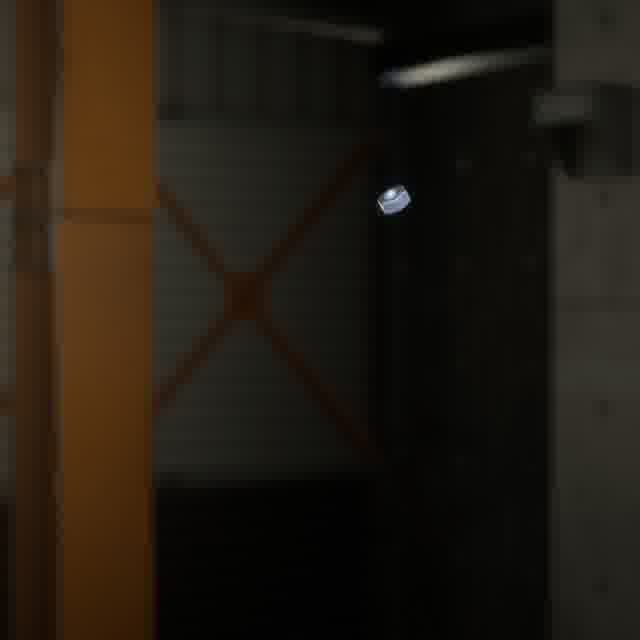nut: (372, 180, 415, 218)
